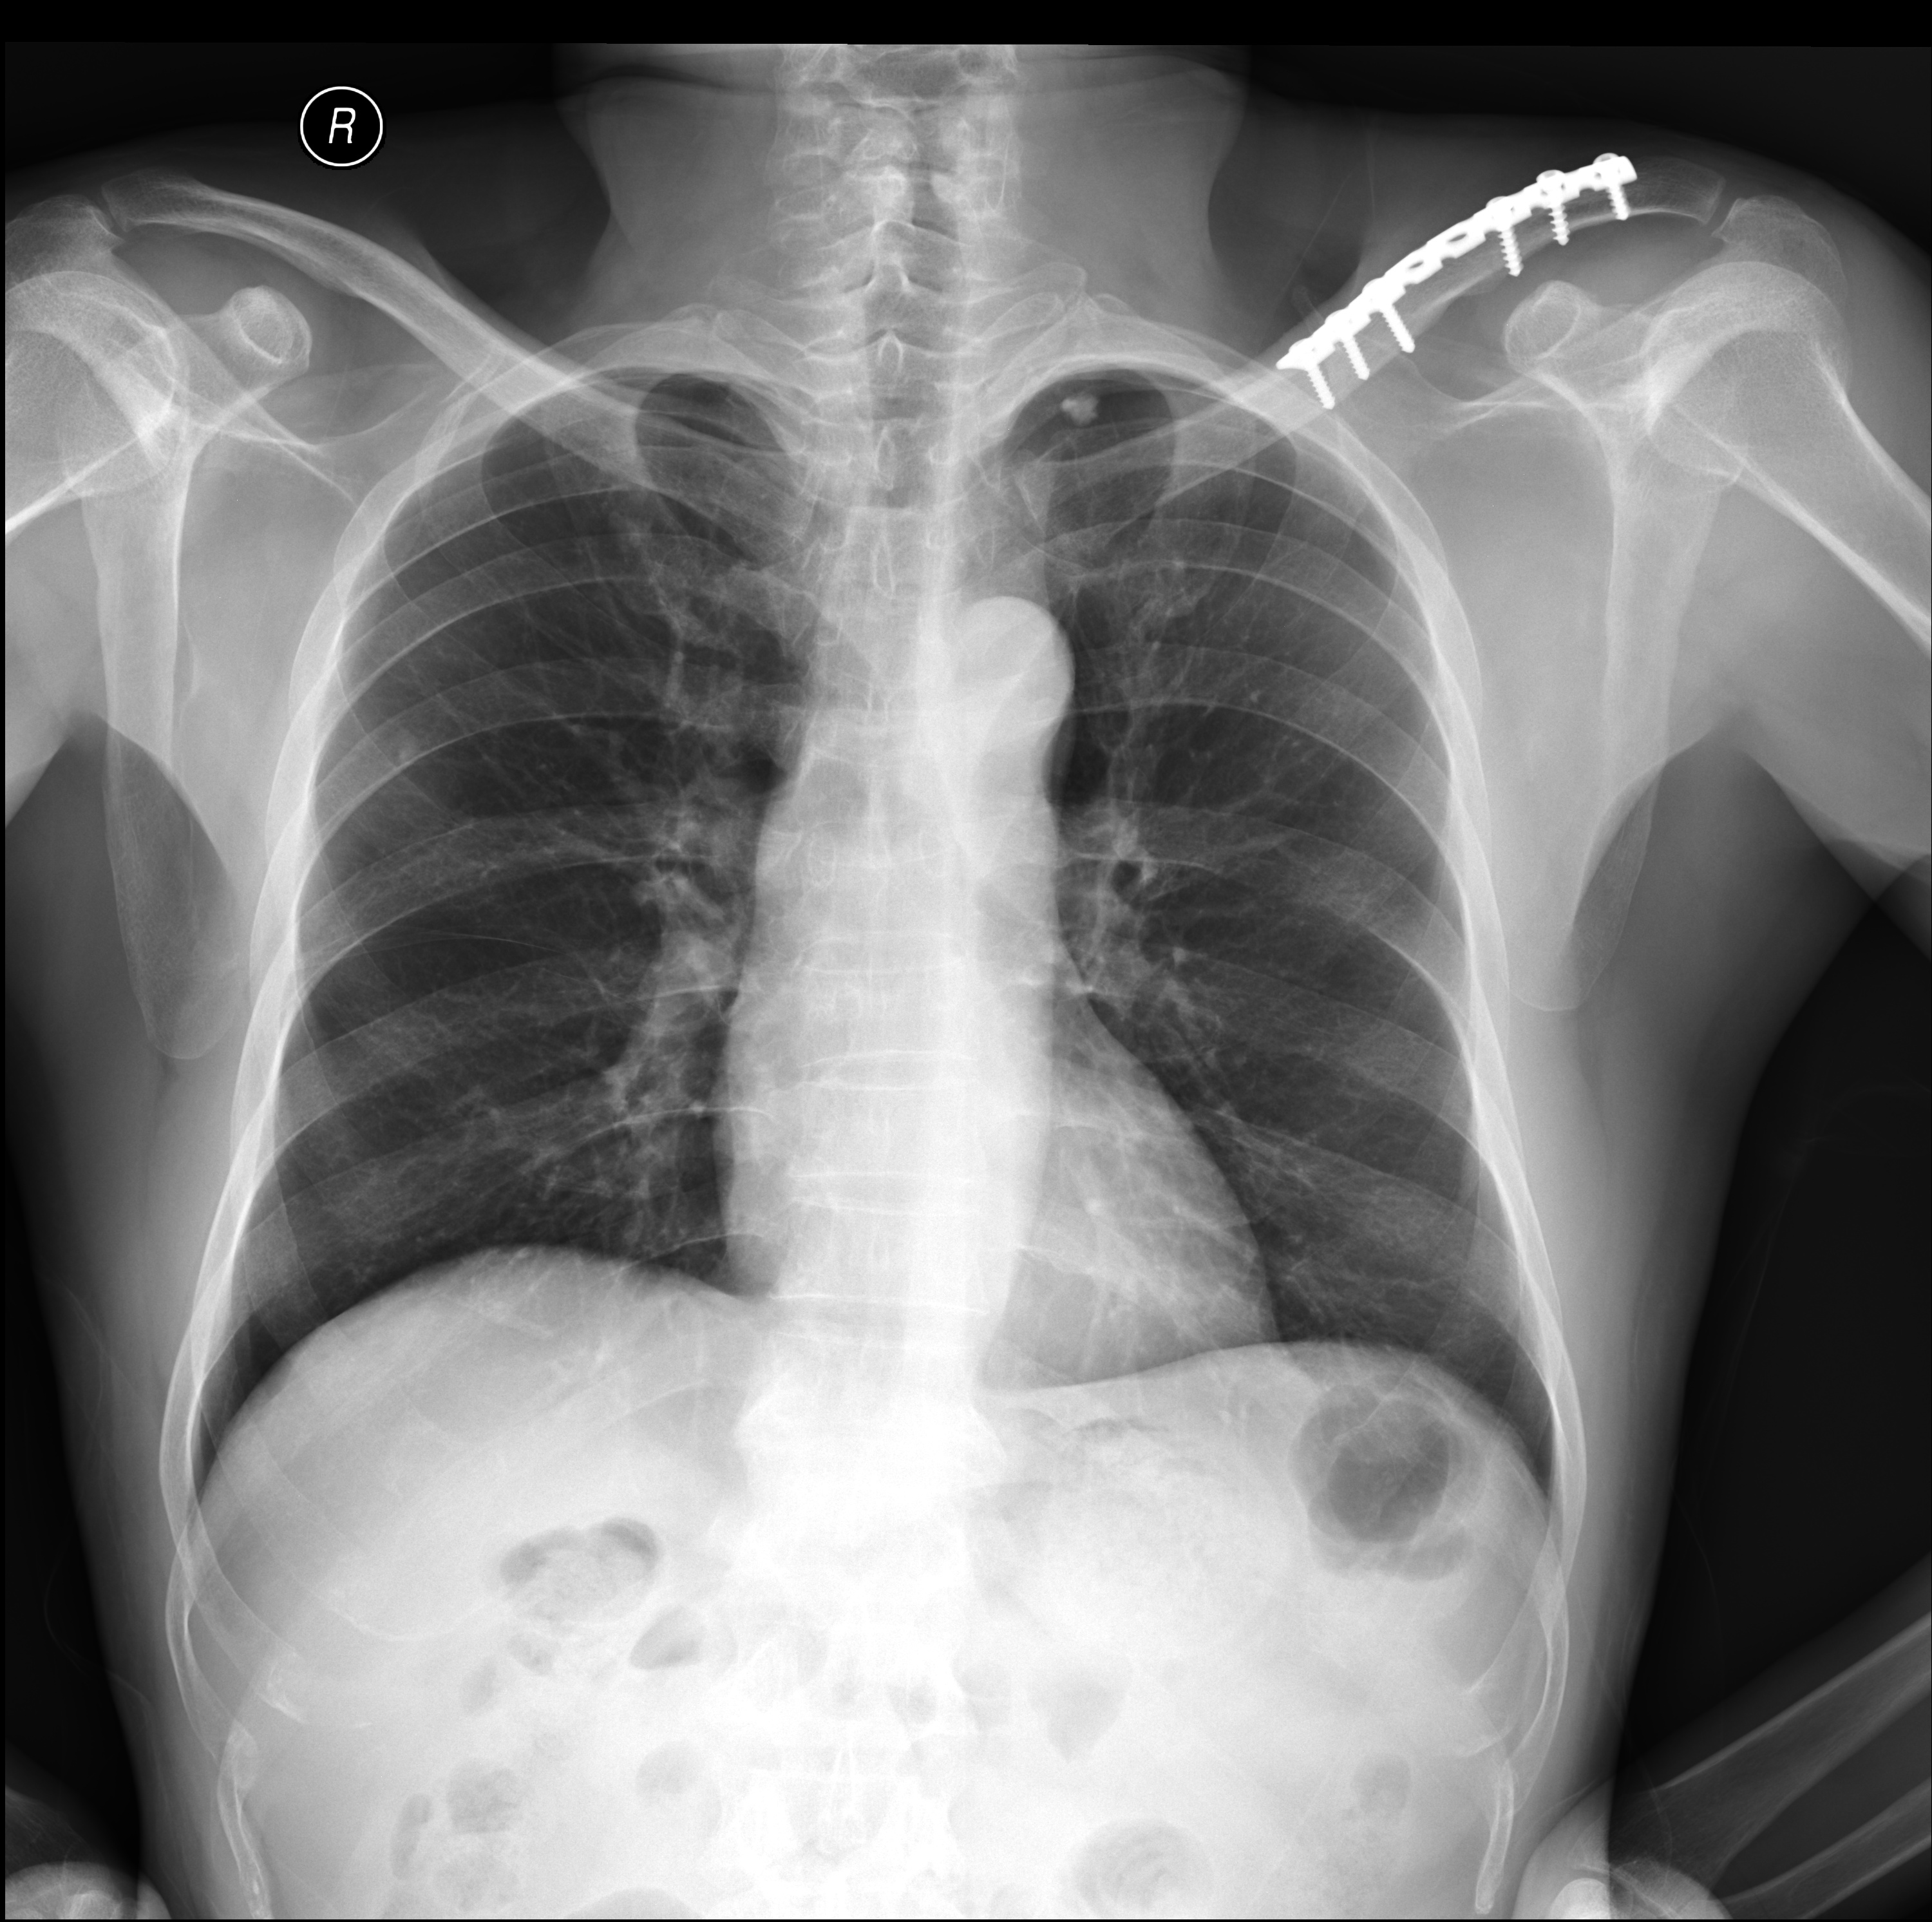nodule: (1015, 359, 1130, 451)
